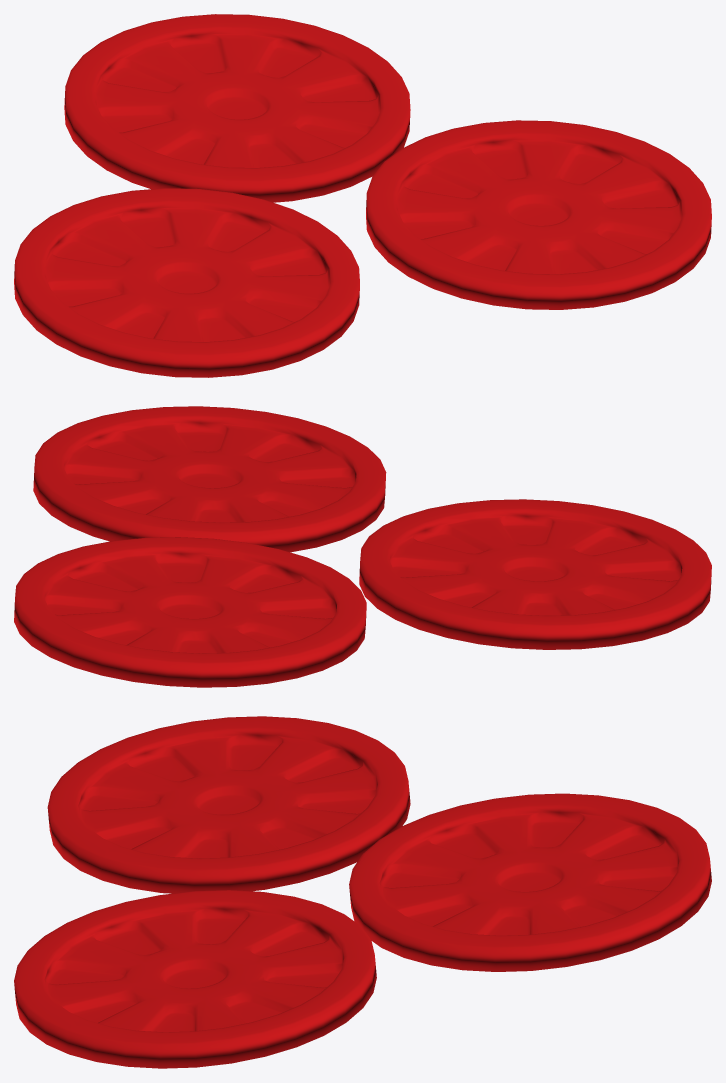
The model's file is CutTomato.fbx.
3 views of the same model, one above another, from view 1: azimuth 30°, elevation 25°; view 2: azimuth 150°, elevation 25°; view 3: azimuth 270°, elevation 25° (orthographic). The views are drawn at different scales.
Parts seen in each view (by area): view 1: Tomato 2; view 2: Tomato 2; view 3: Tomato 2.
Boxes of the visible parts, x1=… form: Tomato 2: x1=14, y1=14, x2=711, y2=377; Tomato 2: x1=14, y1=406, x2=711, y2=687; Tomato 2: x1=14, y1=716, x2=711, y2=1068.
Bounding box in the file's own units: 241 × 25.98 × 220.
